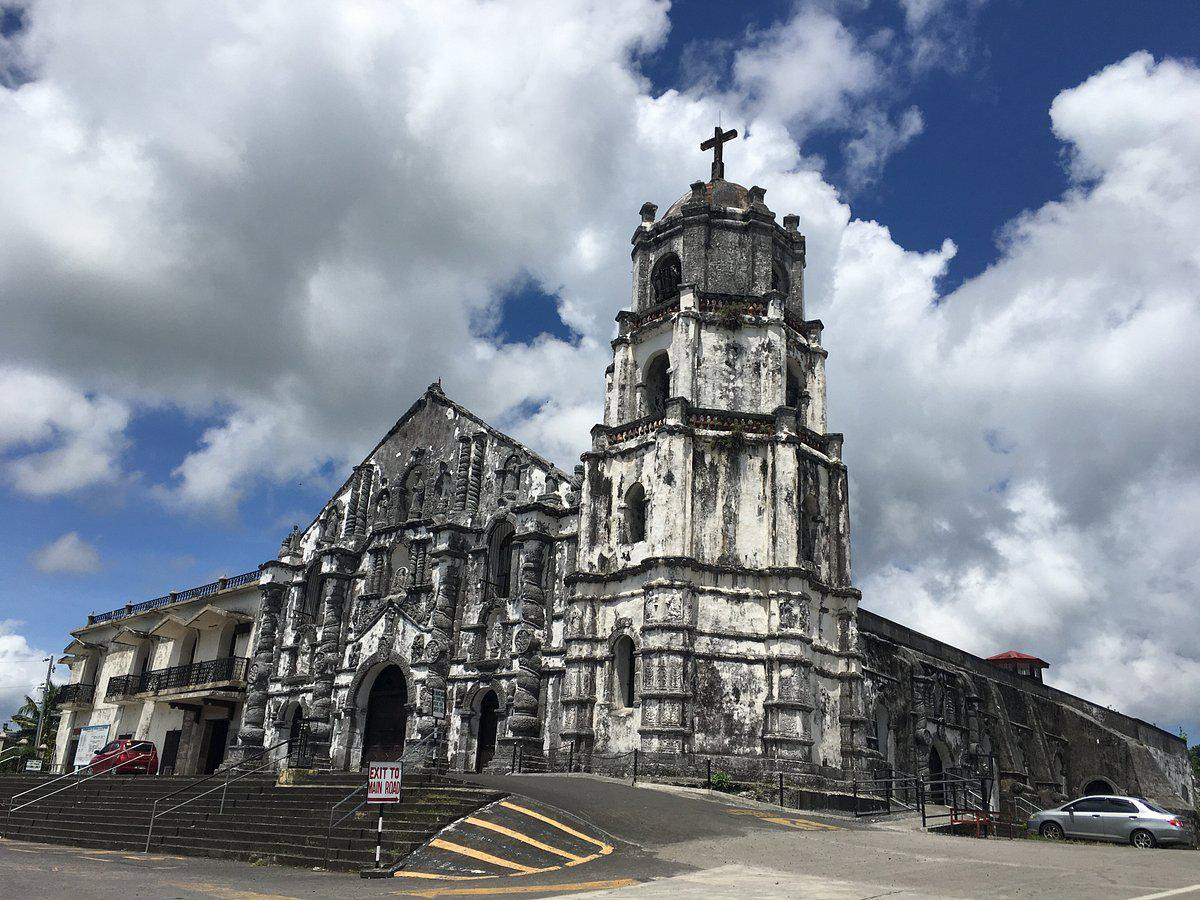daraga_church_daraga_albay: (237, 103, 878, 807)
